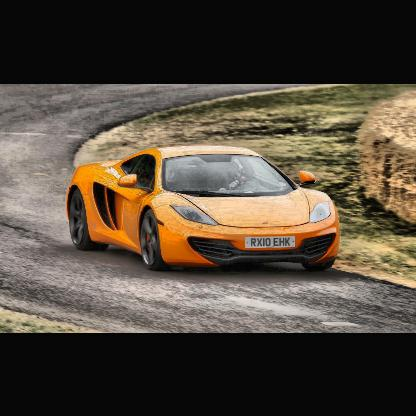McLaren MP4-12C Coupe 2012: (68, 147, 340, 272)
